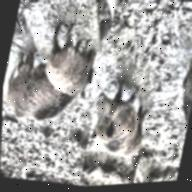boar: (83, 81, 160, 176), (28, 19, 109, 105), (2, 52, 74, 136)
